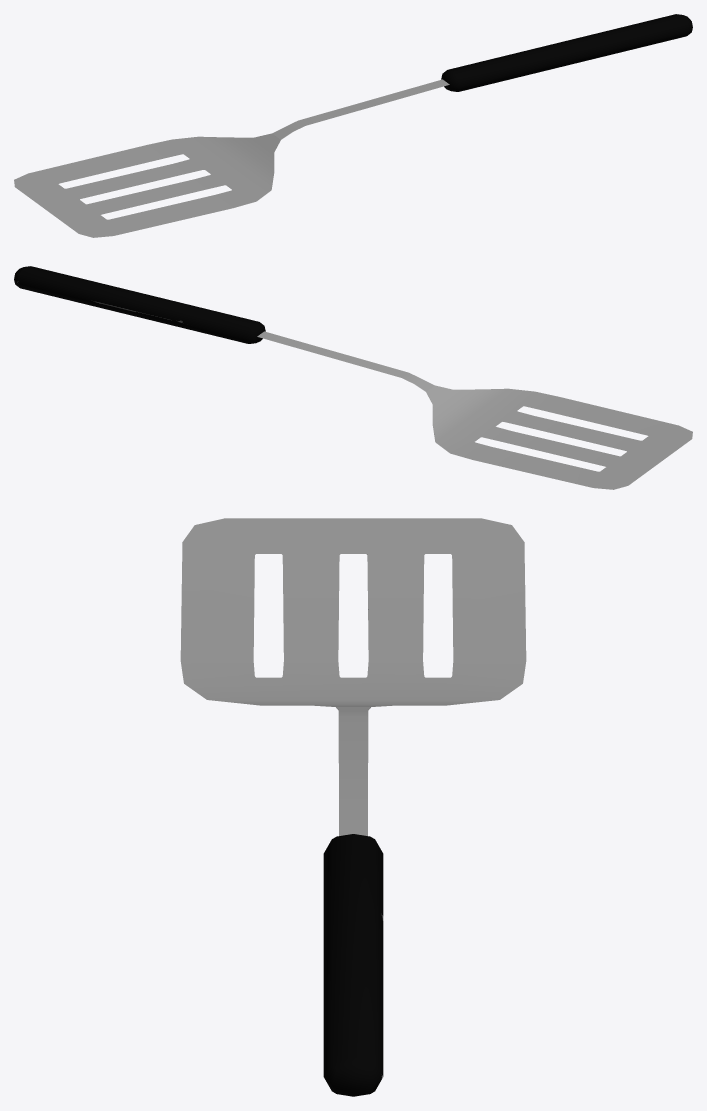
File: spatula.fbx
3 views of the same model, one above another, from view 1: azimuth 30°, elevation 25°; view 2: azimuth 150°, elevation 25°; view 3: azimuth 270°, elevation 25° (orthographic). The views are drawn at different scales.
Parts seen in each view (by area): view 1: Spatula; view 2: Spatula; view 3: Spatula.
Part boxes in pixels (x1,y1,x2,y2): Spatula: [14, 14, 692, 237]; Spatula: [14, 266, 692, 489]; Spatula: [180, 518, 526, 1096].
Size of the model in its own units: 365 by 22.5 by 85.28.
Materials: 1 (1 with a texture image).
